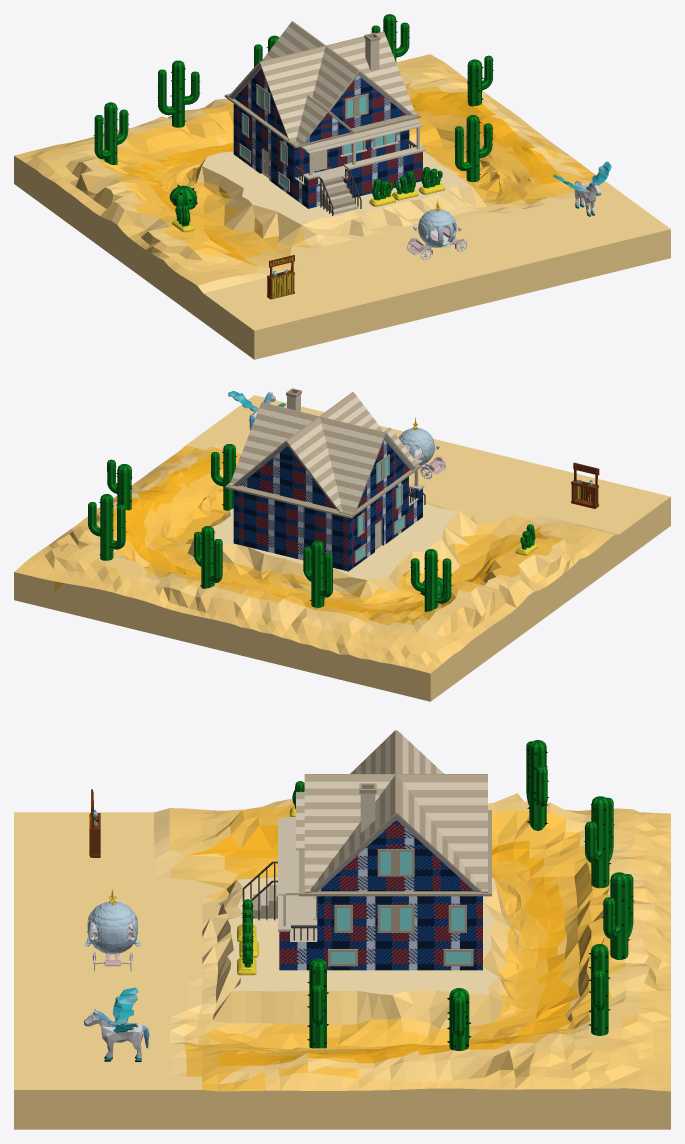
3 renders of one model, top to bottom at view 1: azimuth 30°, elevation 25°; view 2: azimuth 150°, elevation 25°; view 3: azimuth 270°, elevation 25°, orthographic. The views are drawn at different scales.
Parts seen in each view (by area): view 1: Cube.001, Cube.171, VEHICLES_FANTASY_CARRIAGE, Cylinder.037, Cylinder.044, Cylinder.045, Cylinder.038, ANIMAL_PEGASO, OBJRANDOM_LEMONADE_STAND, Cylinder.042, Cylinder.039, Cylinder.041 (+2 smaller); view 2: Cube.001, Cube.171, Cylinder.042, Cylinder.045, Cylinder.044, Cylinder.043, VEHICLES_FANTASY_CARRIAGE, Cylinder.037, OBJRANDOM_LEMONADE_STAND, Cylinder.038, ANIMAL_PEGASO; view 3: Cube.001, Cube.171, VEHICLES_FANTASY_CARRIAGE, Cylinder.043, Cylinder.044, ANIMAL_PEGASO, Cylinder.045, Cylinder.042, Cylinder.037, Cylinder.038, Cylinder.041, OBJRANDOM_LEMONADE_STAND.
Part boxes in pixels (x1,y1,x2,y2): Cube.001: [14, 54, 670, 359]; Cube.171: [224, 21, 425, 215]; VEHICLES_FANTASY_CARRIAGE: [406, 199, 467, 260]; Cylinder.037: [454, 115, 493, 182]; Cylinder.044: [157, 60, 200, 127]; Cylinder.045: [93, 102, 129, 164]; Cylinder.038: [467, 55, 493, 106]; ANIMAL_PEGASO: [553, 161, 611, 216]; OBJRANDOM_LEMONADE_STAND: [267, 255, 294, 299]; Cylinder.042: [371, 14, 409, 62]; Cylinder.039: [369, 179, 395, 206]; Cylinder.041: [418, 167, 445, 194]; Cube.001: [14, 395, 670, 701]; Cube.171: [225, 388, 425, 571]; Cylinder.042: [88, 494, 126, 560]; Cylinder.045: [410, 549, 452, 611]; Cylinder.044: [303, 540, 333, 607]; Cylinder.043: [193, 526, 222, 588]; VEHICLES_FANTASY_CARRIAGE: [398, 418, 446, 479]; Cylinder.037: [211, 444, 240, 510]; OBJRANDOM_LEMONADE_STAND: [571, 462, 599, 508]; Cylinder.038: [107, 459, 131, 510]; ANIMAL_PEGASO: [228, 391, 285, 430]; Cube.001: [14, 793, 670, 1129]; Cube.171: [242, 730, 491, 970]; VEHICLES_FANTASY_CARRIAGE: [85, 889, 140, 971]; Cylinder.043: [602, 872, 634, 959]; Cylinder.044: [584, 796, 614, 888]; ANIMAL_PEGASO: [84, 987, 149, 1061]; Cylinder.045: [526, 740, 548, 830]; Cylinder.042: [588, 944, 610, 1035]; Cylinder.037: [307, 958, 328, 1048]; Cylinder.038: [447, 988, 471, 1050]; Cylinder.041: [237, 932, 256, 975]; OBJRANDOM_LEMONADE_STAND: [89, 789, 100, 857].
Size of the model in its own units: 4002 by 1600 by 4001.
31 materials, 3 textured.
